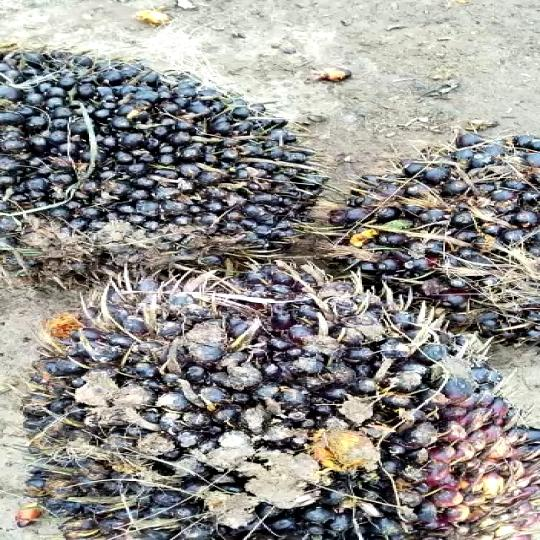mentah: (18, 271, 540, 539), (0, 40, 385, 296), (344, 119, 540, 348)
